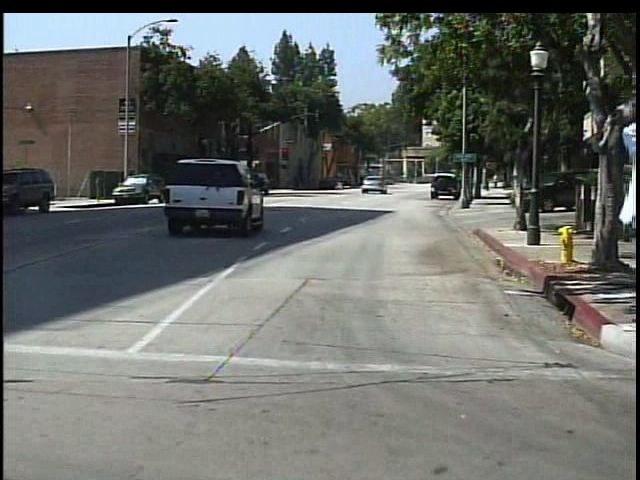person: (603, 110, 638, 341), (332, 173, 348, 193), (492, 171, 501, 192)
